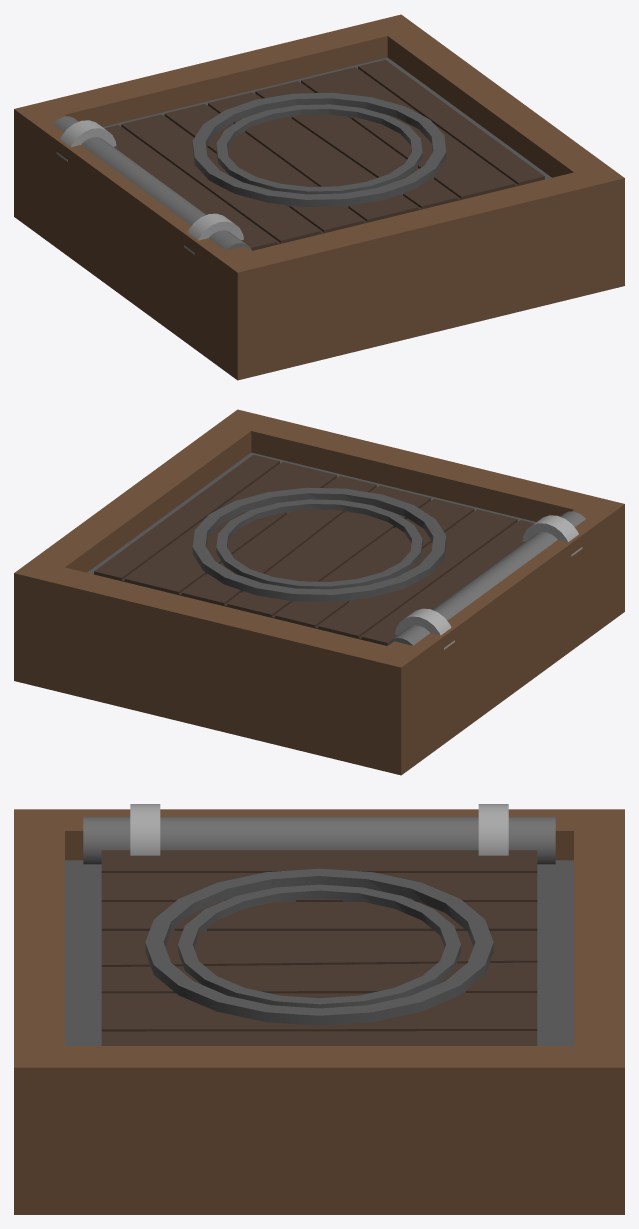
File: Trapdoor.fbx
3 renders of one model, top to bottom at view 1: azimuth 30°, elevation 25°; view 2: azimuth 150°, elevation 25°; view 3: azimuth 270°, elevation 25°, orthographic. The views are drawn at different scales.
Parts seen in each view (by area): view 1: pCube19, pCube20, pCylinder7, pCylinder9, pCylinder4, pCube18, pCylinder6, pCylinder5; view 2: pCube19, pCube20, pCylinder7, pCylinder9, pCylinder4, pCube18, pCylinder5, pCylinder6; view 3: pCube19, pCube20, pCylinder4, pCylinder7, pCube18, pCylinder9, pCylinder5, pCylinder6.
Part boxes in pixels (box(x1,y1,x2,y2)): pCube19: box(14, 14, 624, 380); pCube20: box(104, 59, 544, 250); pCylinder7: box(192, 92, 446, 208); pCylinder9: box(216, 104, 422, 194); pCylinder4: box(53, 116, 251, 250); pCube18: box(103, 57, 551, 179); pCylinder6: box(56, 120, 116, 161); pCylinder5: box(184, 213, 243, 254); pCube19: box(14, 409, 624, 775); pCube20: box(94, 454, 534, 645); pCylinder7: box(192, 487, 446, 603); pCylinder9: box(216, 499, 422, 589); pCylinder4: box(387, 511, 585, 645); pCube18: box(87, 452, 535, 574); pCylinder5: box(522, 515, 582, 556); pCylinder6: box(395, 608, 454, 649); pCube19: box(14, 809, 624, 1214); pCube20: box(101, 850, 537, 1045); pCylinder4: box(83, 817, 555, 864); pCylinder7: box(145, 868, 493, 1025); pCube18: box(65, 860, 573, 1045); pCylinder9: box(178, 884, 460, 1008); pCylinder5: box(130, 804, 160, 855); pCylinder6: box(478, 804, 508, 855).
Bounding box in the file's own units: 3.51 × 1.05 × 3.51.
